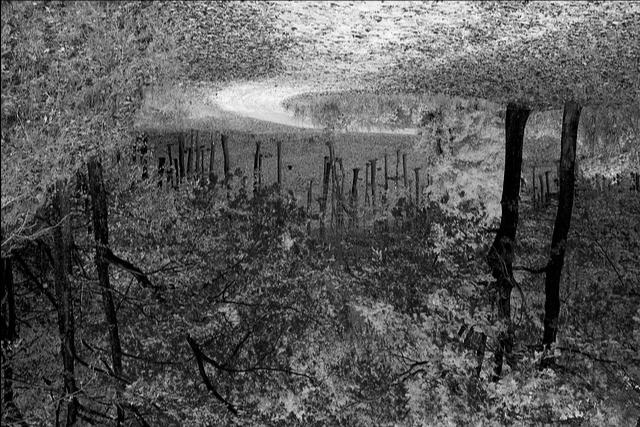Non_Gorille: (45, 53, 568, 406)
